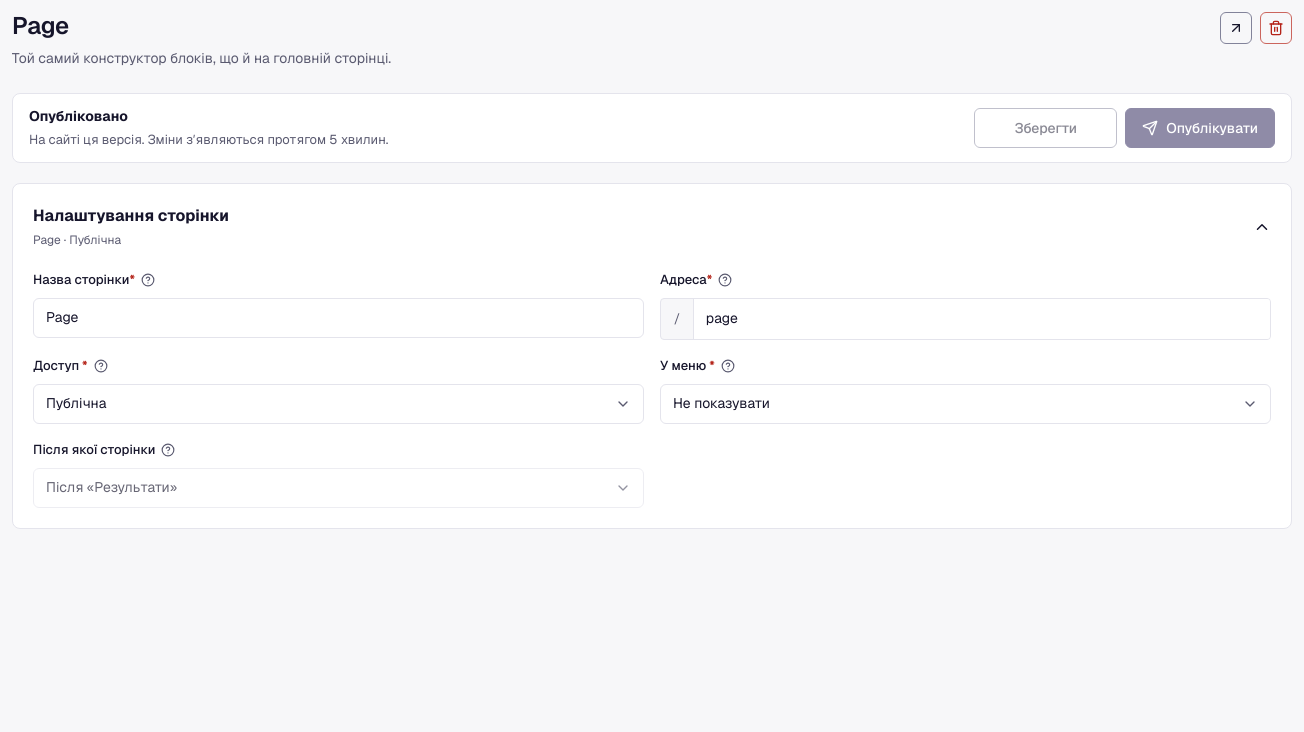
Test: page draft save state › keeps newer edits and the current editor when a saved slug changes
Replace the text in the field named "Адреса сторінки" with "saved-page" at (981, 319), box [693, 299, 1270, 339]
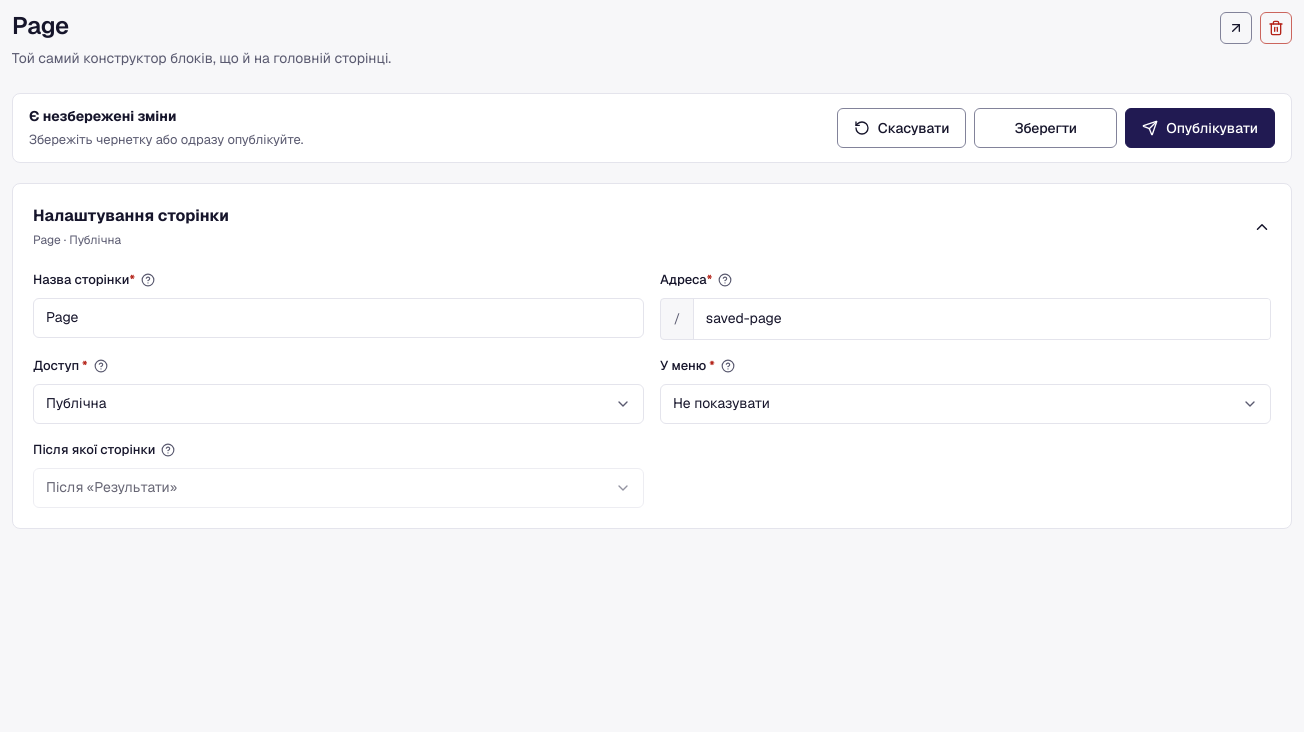
Click the button "Зберегти" at (1046, 128), box [974, 108, 1117, 148]
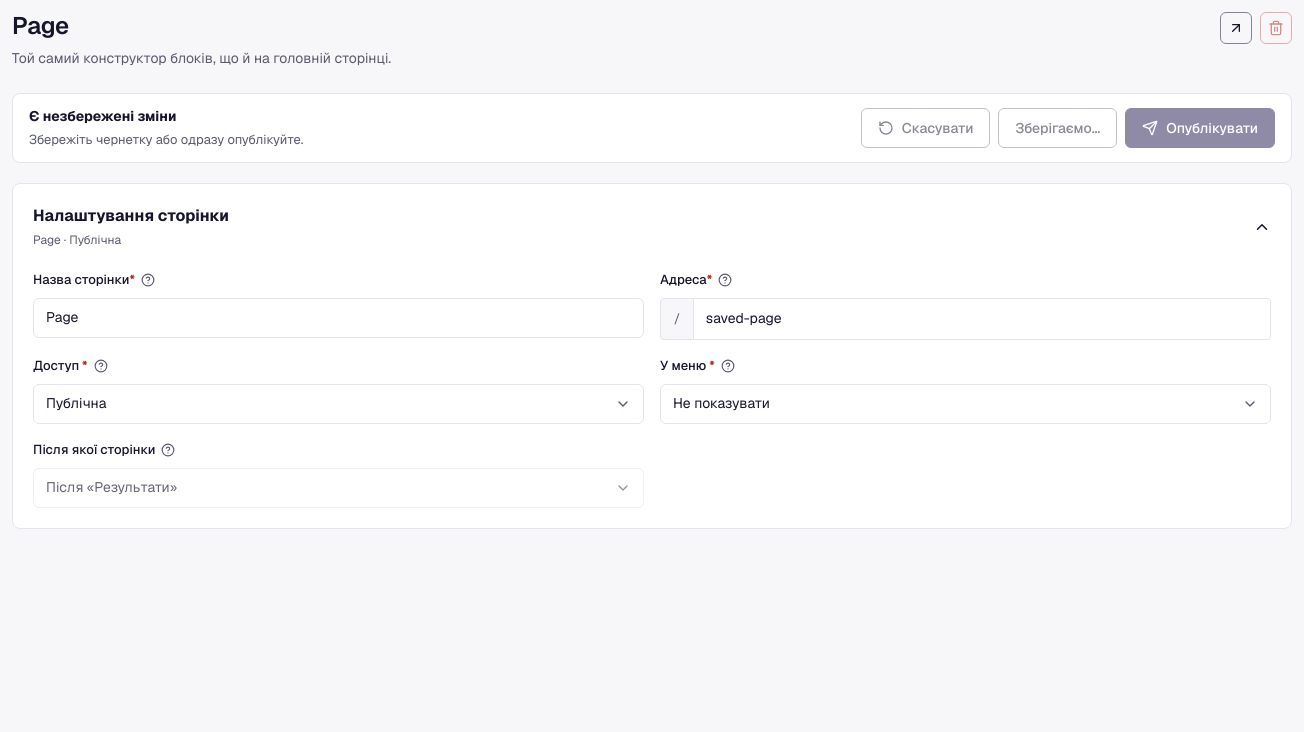
Replace the text in the field labelled "Назва сторінки" with "Later title" at (338, 318), box [33, 298, 644, 338]
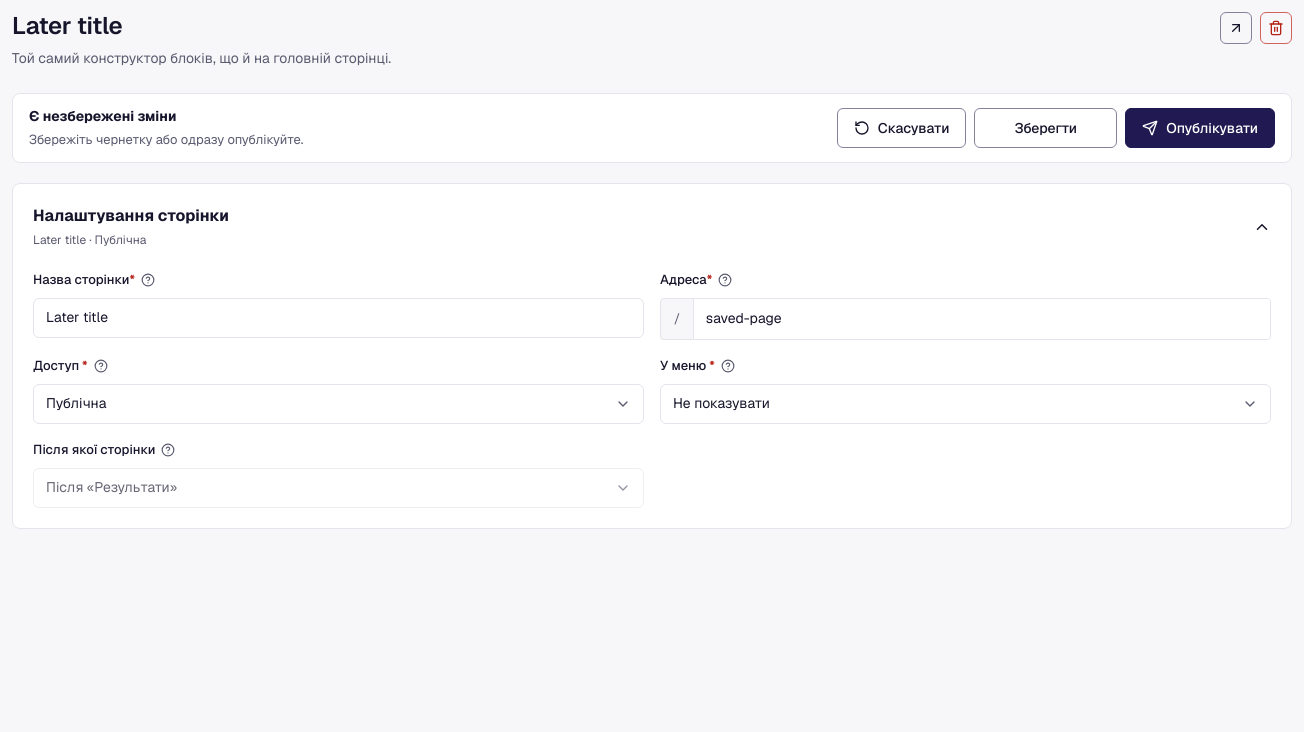
Now the button "Зберегти" is enabled, box [974, 108, 1117, 148]
Replace the text in the field labelled "Назва сторінки" with "Page" at (338, 318), box [33, 298, 644, 338]
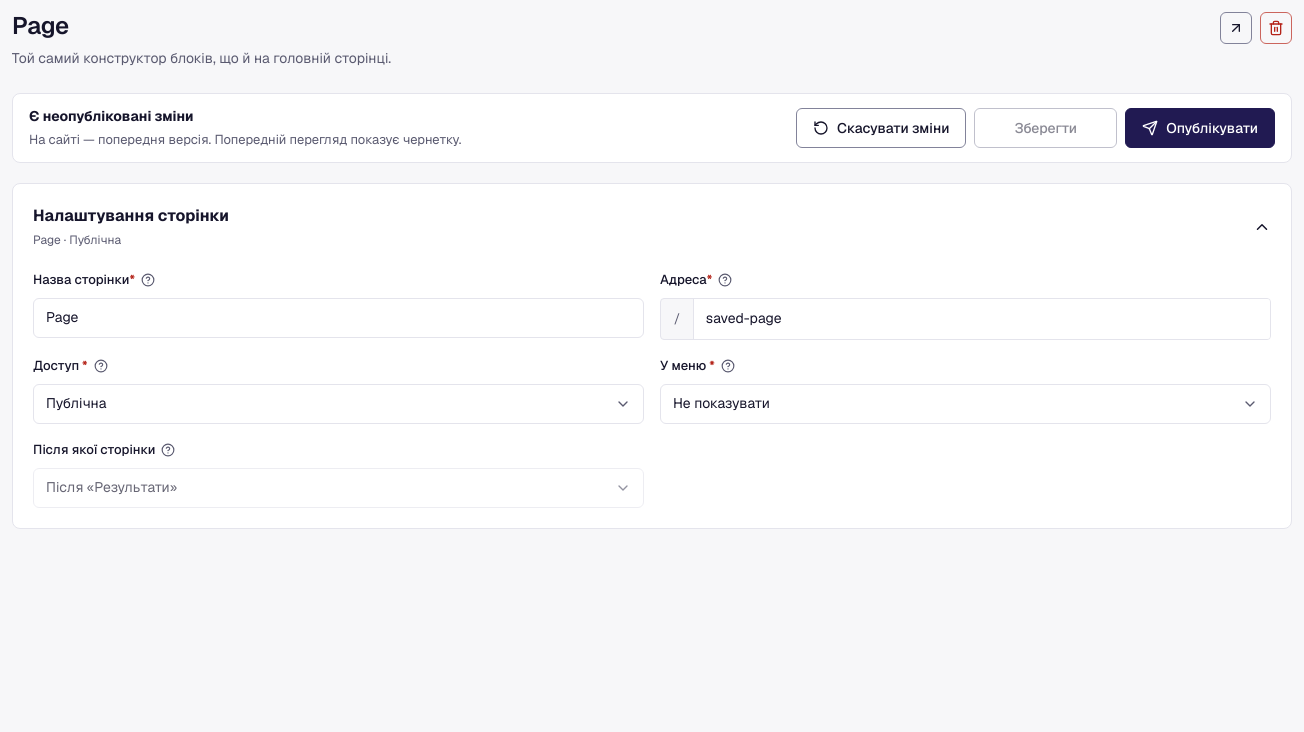
Now the button "Зберегти" is disabled, box [974, 108, 1117, 148]
